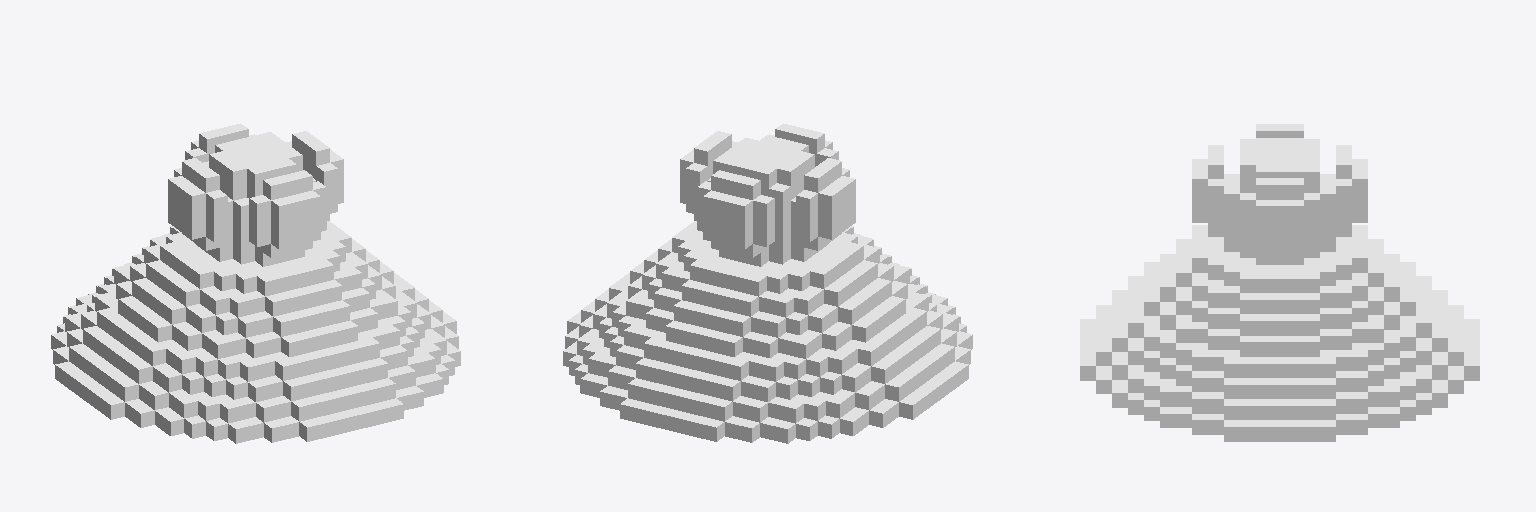
File: Prototype_1_for_animation-1.obj
3 views of the same model, side by side, from view 1: azimuth 30°, elevation 25°; view 2: azimuth 150°, elevation 25°; view 3: azimuth 270°, elevation 25° (orthographic).
Parts seen in each view (by area): view 1: object 1; view 2: object 1; view 3: object 1.
Boxes of the visible parts, x1=… form: object 1: x1=51, y1=123, x2=460, y2=443; object 1: x1=563, y1=123, x2=972, y2=443; object 1: x1=1080, y1=124, x2=1479, y2=441.
Bounding box in the file's own units: 2.5 × 1.4 × 2.5.